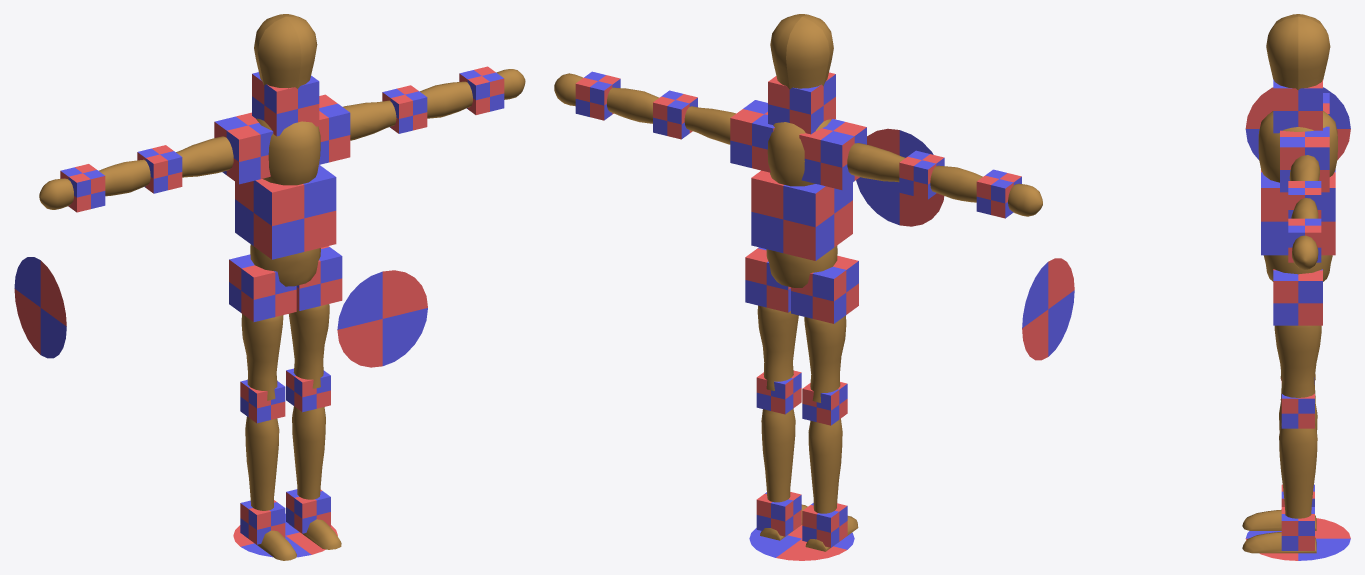
Rendered from posable_mannequin.fbx.
The picture shows the model from 3 angles, left to right: view 1: azimuth 30°, elevation 25°; view 2: azimuth 150°, elevation 25°; view 3: azimuth 270°, elevation 25°; orthographic projection.
Visible parts, largest first — view 1: Round_CN2, CN_Joint_1_10, Round_CN3, Head1, Upper_Torso1, Right_Shin1, Left_Shin1, Right_Thigh1, Left_Thigh1, CN_Joint49, CN_Joint_1_9, Right_Upper_Arm1 (+23 smaller); view 2: CN_Joint47, Round_CN3, Head1, Round_CN2, Right_Shin1, Left_Shin1, Right_Thigh1, Left_Thigh1, CN_Joint49, Upper_Torso1, Round_CN1, CN_Joint32 (+22 smaller); view 3: Head1, Left_Shin1, Left_Thigh1, CN_Joint46, CN_Joint26, CN_Joint41, Upper_Torso1, Round_CN3, Round_CN1, CN_Joint56, CN_Joint16, CN_Joint21 (+12 smaller).
Boxes of the visible parts, x1,y1,x2,y2 form: Round_CN2: [337, 270, 427, 367]; CN_Joint_1_10: [272, 177, 336, 259]; Round_CN3: [14, 257, 66, 358]; Head1: [254, 14, 317, 88]; Upper_Torso1: [256, 118, 320, 185]; Right_Shin1: [245, 416, 279, 510]; Left_Shin1: [292, 406, 325, 499]; Right_Thigh1: [241, 314, 283, 400]; Left_Thigh1: [289, 304, 329, 388]; CN_Joint49: [235, 180, 271, 259]; CN_Joint_1_9: [276, 81, 319, 136]; Right_Upper_Arm1: [176, 136, 233, 177]; CN_Joint47: [751, 178, 815, 260]; Round_CN3: [1022, 258, 1074, 360]; Head1: [770, 14, 833, 89]; Round_CN2: [856, 128, 944, 226]; Right_Shin1: [808, 418, 842, 513]; Left_Shin1: [761, 408, 795, 502]; Right_Thigh1: [804, 315, 846, 402]; Left_Thigh1: [757, 305, 798, 390]; CN_Joint49: [815, 182, 852, 260]; Upper_Torso1: [767, 119, 830, 186]; Round_CN1: [749, 525, 854, 560]; CN_Joint32: [799, 135, 842, 189]; Head1: [1266, 14, 1330, 90]; Left_Shin1: [1279, 423, 1317, 518]; Left_Thigh1: [1274, 325, 1321, 402]; CN_Joint46: [1261, 188, 1335, 255]; CN_Joint26: [1273, 281, 1322, 325]; CN_Joint41: [1273, 88, 1322, 133]; Upper_Torso1: [1258, 111, 1337, 182]; Round_CN3: [1245, 87, 1350, 160]; Round_CN1: [1245, 518, 1350, 560]; CN_Joint56: [1280, 147, 1329, 192]; CN_Joint16: [1281, 398, 1314, 428]; CN_Joint21: [1281, 521, 1314, 550].
Bounding box in the file's own units: 1.71 × 1.74 × 0.7491.
